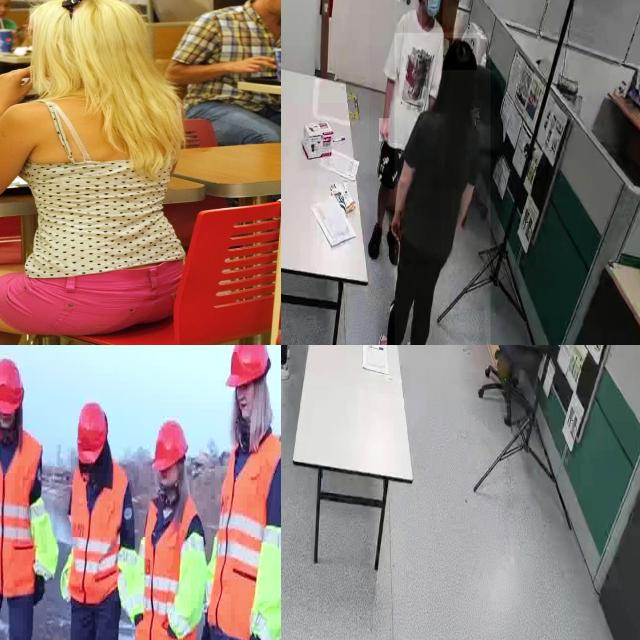face_mask: (422, 0, 443, 27)
hand_glove: (35, 576, 45, 603), (202, 615, 211, 640)
hand_noglove: (389, 211, 402, 245), (379, 118, 390, 142)
head_helmet: (78, 400, 110, 466), (224, 345, 272, 389), (152, 420, 188, 472), (0, 358, 26, 414)
head_nohelmet: (443, 38, 477, 71)
person: (394, 32, 491, 345), (202, 345, 281, 640), (368, 0, 441, 264), (62, 400, 128, 640), (139, 417, 206, 640), (0, 349, 48, 640)
shoes: (367, 220, 385, 262), (375, 333, 397, 345), (281, 359, 291, 383)
vest: (208, 431, 281, 640), (70, 452, 125, 606), (147, 501, 200, 640), (0, 431, 42, 595)
